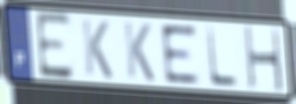E: (33, 10, 76, 83), (158, 23, 203, 85)
H: (242, 24, 286, 95)
K: (80, 16, 115, 82), (122, 19, 157, 84)
L: (204, 23, 240, 90)
